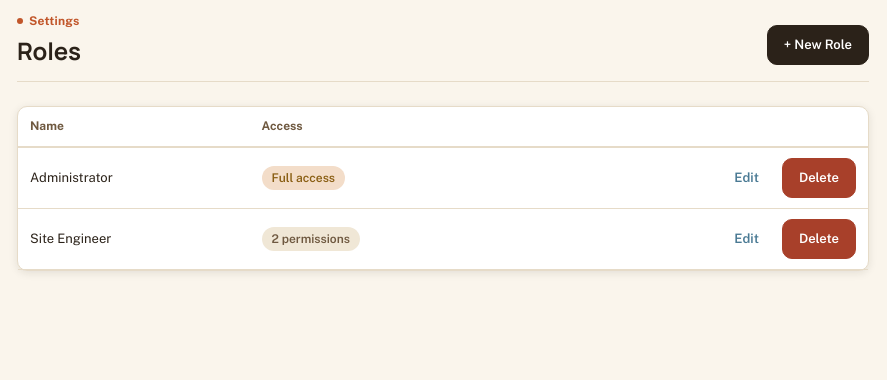
it: RolesPage › shows a real error banner when deletion is refused by the backend
Expected: the text "Site Engineer" is shown, [18,209,250,270]
Click the button "Delete" in the row of "Administrator": (819, 178) [782,158,856,198]
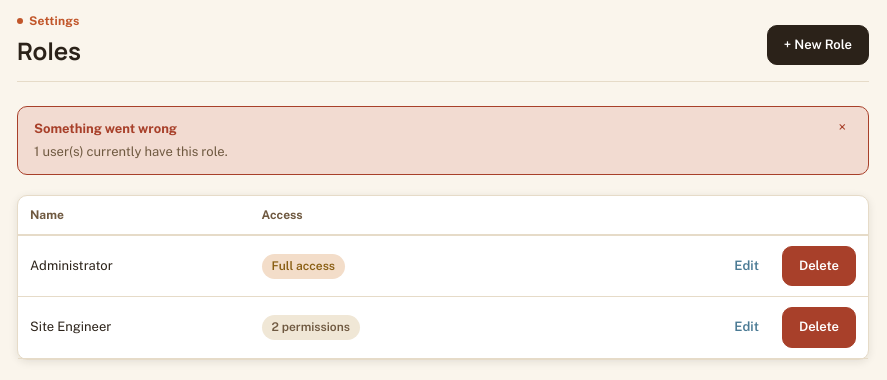
Result: the text "1 user(s) currently have this role." is shown at [34,142,228,162]
